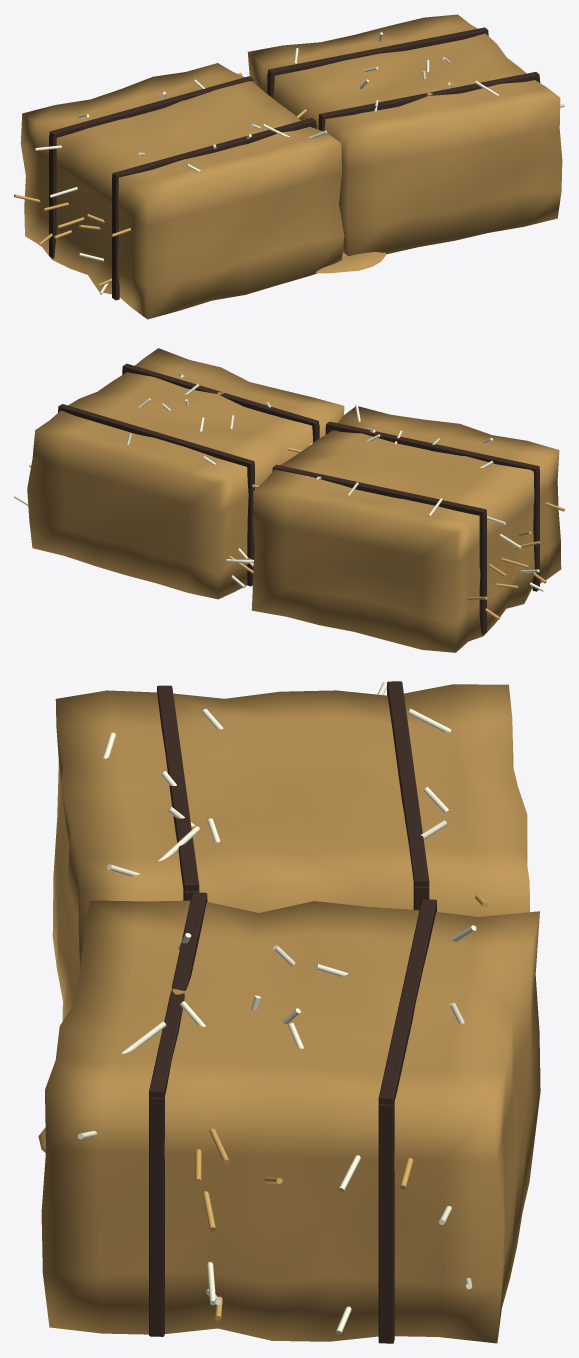
File: detail_hay_bales.glb
The picture shows the model from 3 angles, top to bottom: view 1: azimuth 30°, elevation 25°; view 2: azimuth 150°, elevation 25°; view 3: azimuth 270°, elevation 25°; orthographic projection. The views are drawn at different scales.
Parts seen in each view (by area): view 1: wood, straw; view 2: wood, straw; view 3: wood, straw.
Boxes of the visible parts, x1=… form: wood: x1=20, y1=14, x2=562, y2=319; straw: x1=14, y1=32, x2=564, y2=294; wood: x1=27, y1=348, x2=561, y2=652; straw: x1=14, y1=373, x2=564, y2=619; wood: x1=38, y1=681, x2=540, y2=1343; straw: x1=78, y1=682, x2=488, y2=1334.
Size of the model in its own units: 2.6 by 0.7 by 1.2.
